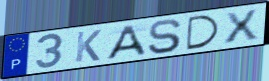3: (34, 31, 65, 72)
A: (104, 24, 147, 61)
D: (185, 13, 222, 51)
K: (73, 28, 103, 64)
S: (146, 18, 184, 55)
X: (222, 8, 260, 46)
